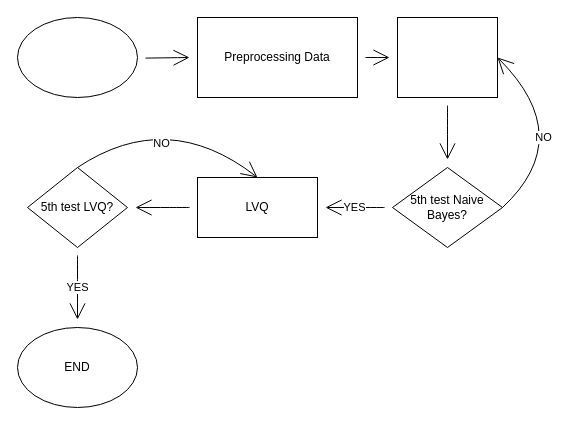
This 569x425 diagram has some shape labels left out. The box of each missing label's shape, as (x1, y1, x2, y2) in pixels:
Naive Bayes: (396, 16, 498, 98)
START: (16, 16, 138, 98)
